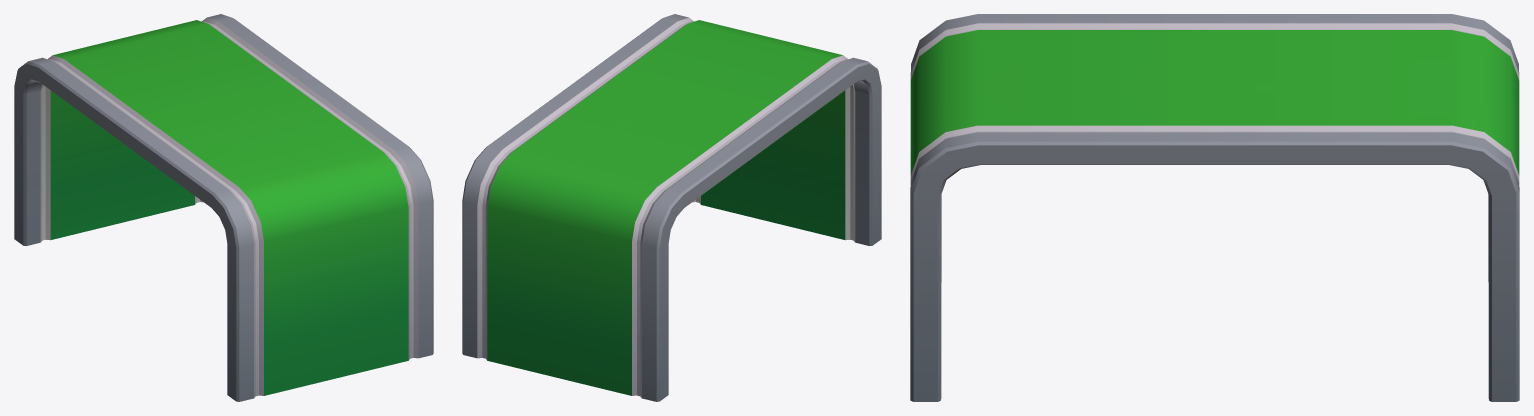
Rendered from Table_4_E.glb.
The picture shows the model from 3 angles, left to right: view 1: azimuth 30°, elevation 25°; view 2: azimuth 150°, elevation 25°; view 3: azimuth 270°, elevation 25°; orthographic projection. The views are drawn at different scales.
Visible parts, largest first — view 1: Table_4_E; view 2: Table_4_E; view 3: Table_4_E.
Boxes of the visible parts, bbox=[...] form: Table_4_E: bbox=[14, 14, 433, 401]; Table_4_E: bbox=[462, 14, 881, 401]; Table_4_E: bbox=[910, 14, 1519, 401].
Bounding box in the file's own units: 0.9495 × 0.8784 × 1.87.
Materials: 2 (2 with a texture image).
